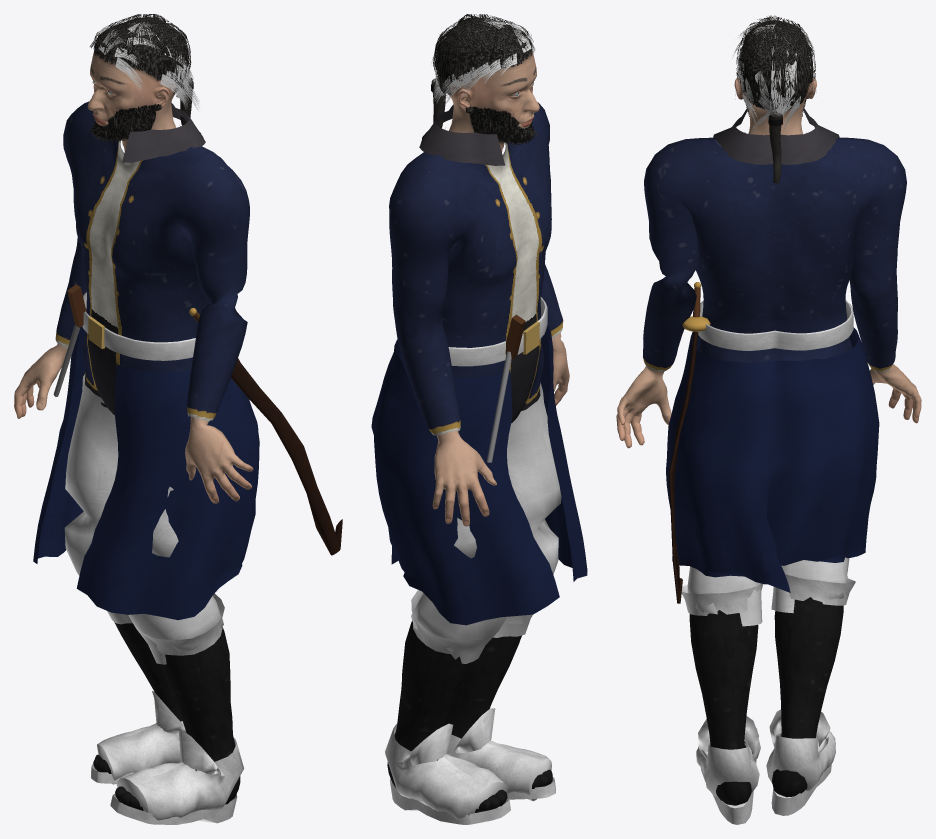
The model's file is SM_Art_Person_draven.gltf.
3 renders of one model, left to right at view 1: azimuth 30°, elevation 25°; view 2: azimuth 150°, elevation 25°; view 3: azimuth 270°, elevation 25°, orthographic. The views are drawn at different scales.
Parts seen in each view (by area): view 1: SM_Art_Person_draven; view 2: SM_Art_Person_draven; view 3: SM_Art_Person_draven.
Boxes of the visible parts, left/top/right/bottom form: SM_Art_Person_draven: left=14, top=14, right=342, bottom=824; SM_Art_Person_draven: left=371, top=14, right=587, bottom=824; SM_Art_Person_draven: left=616, top=15, right=921, bottom=824.
Size of the model in its own units: 0.6211 by 1.96 by 0.708.
Materials: 26 (21 with a texture image).
